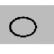no answer: (8, 15, 38, 39)
